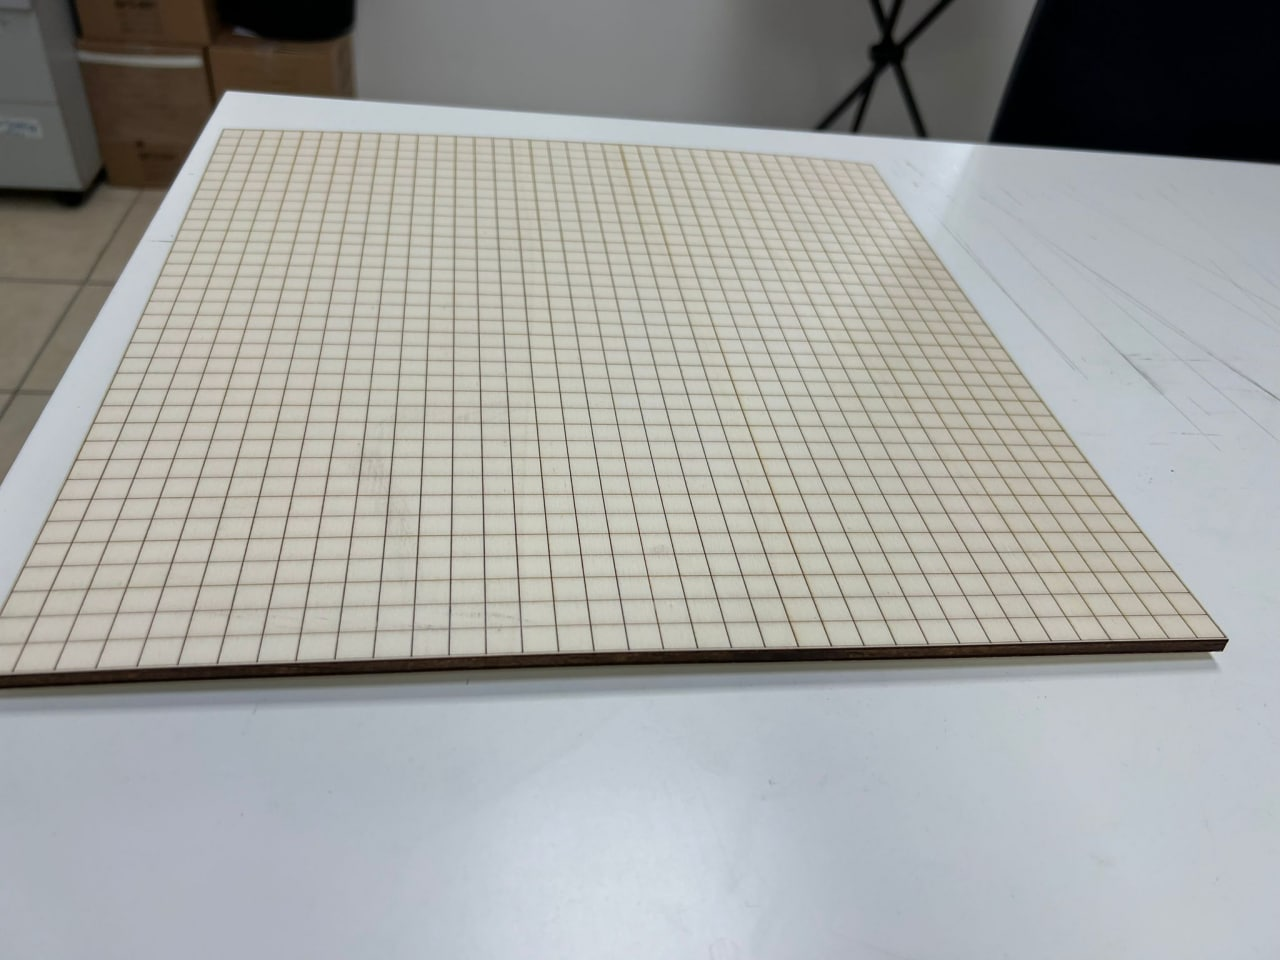grid: (15, 120, 1235, 695)
